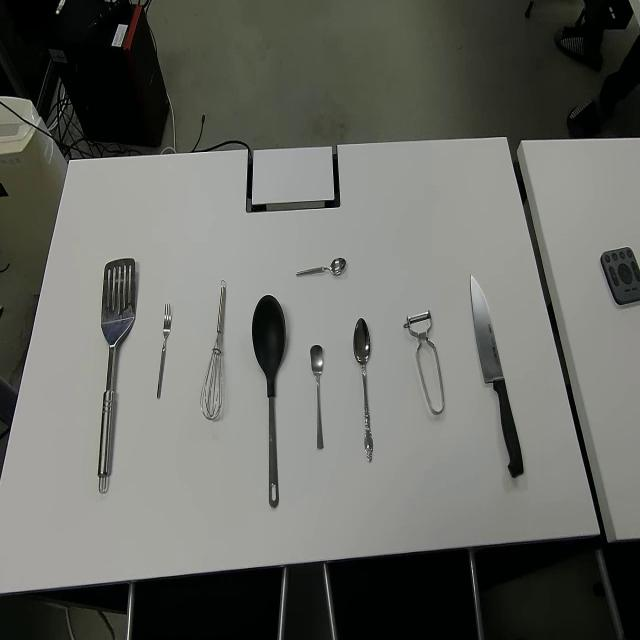Desert-Spoon: (353, 316, 374, 465)
Dinner-Fork: (156, 301, 172, 401)
Kitchen-Knife: (469, 273, 524, 478)
Peeler: (403, 308, 445, 417)
Serving-Spoon: (97, 256, 137, 496), (251, 292, 286, 509)
Tea-Spoon: (310, 343, 324, 451), (295, 255, 347, 280)
Whisk: (200, 278, 228, 422)
